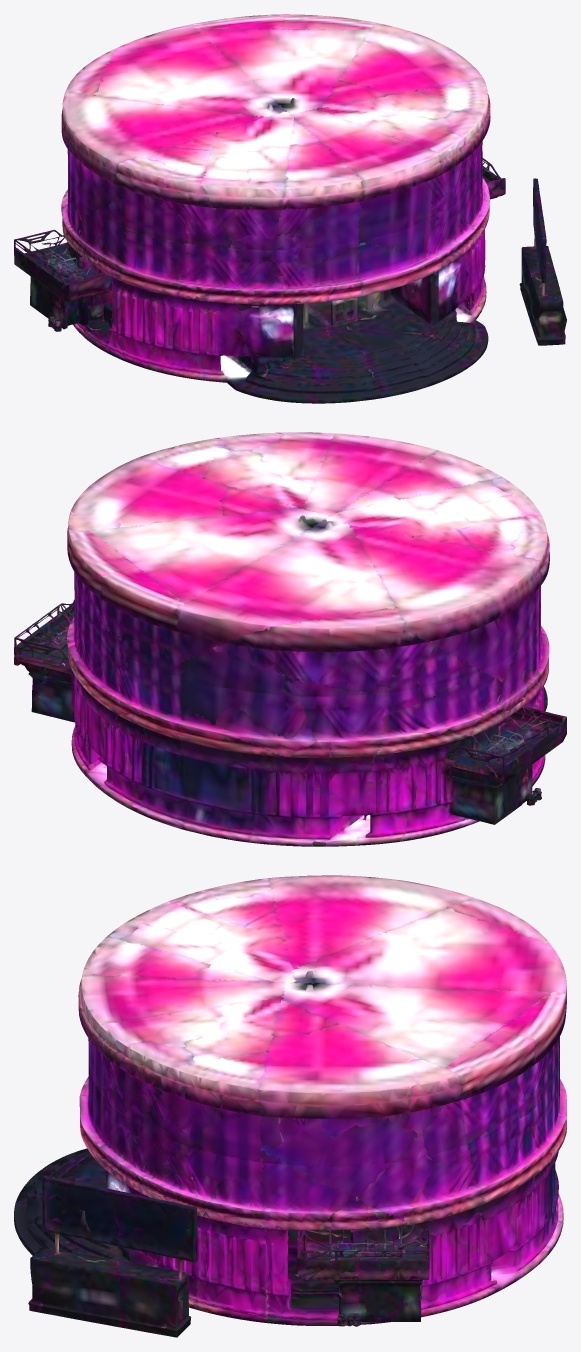
Rendered from b3_holo_club_lod2.glb.
3 renders of one model, top to bottom at view 1: azimuth 30°, elevation 25°; view 2: azimuth 150°, elevation 25°; view 3: azimuth 270°, elevation 25°, orthographic. The views are drawn at different scales.
Size of the model in its own units: 1.9 by 0.8371 by 1.74.
Materials: 1 (1 with a texture image).
